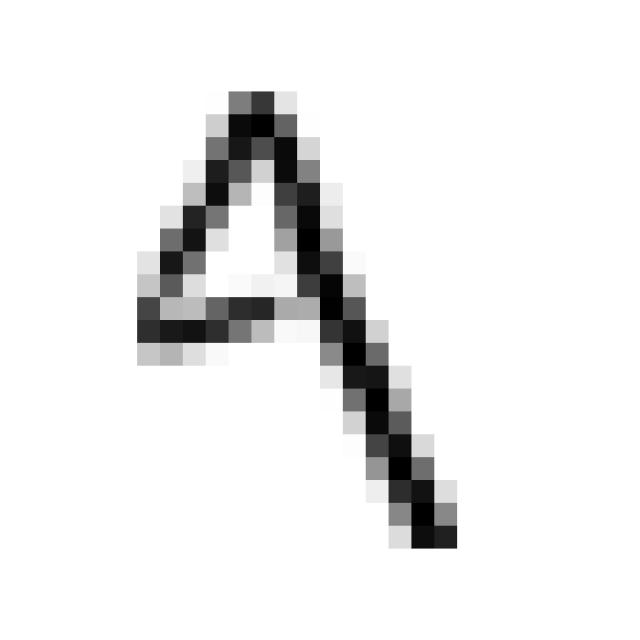9 -nine-: (110, 64, 489, 581)
